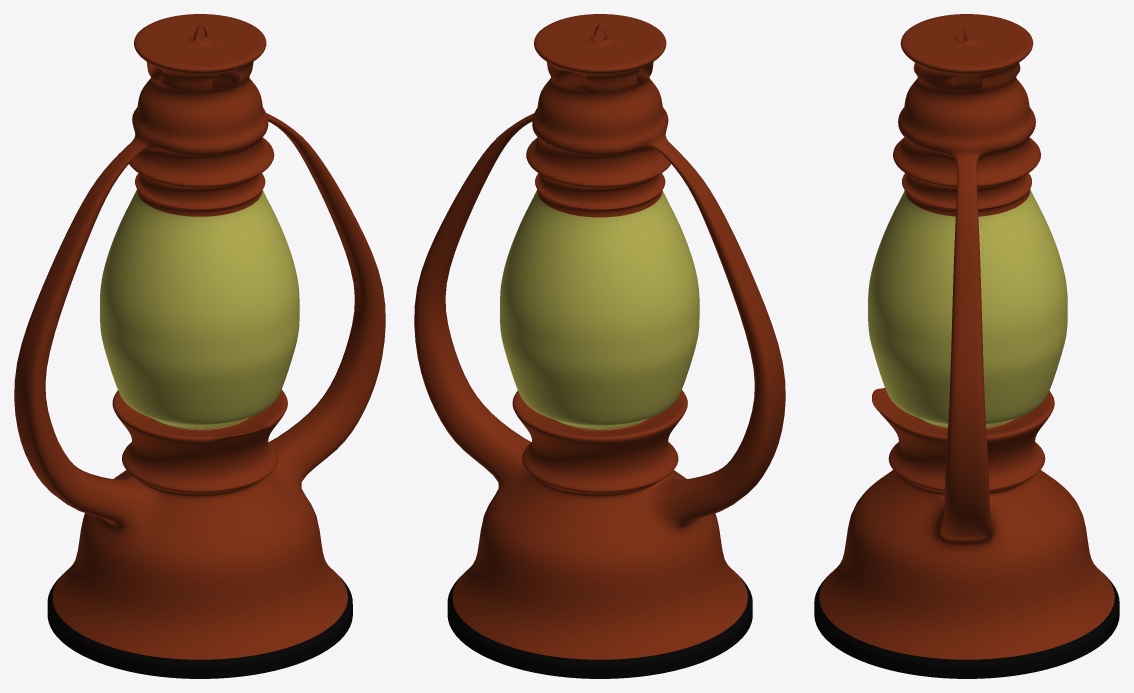
Rendered from Lantern Exp.fbx.
3 views of the same model, side by side, from view 1: azimuth 30°, elevation 25°; view 2: azimuth 150°, elevation 25°; view 3: azimuth 270°, elevation 25° (orthographic).
Visible parts, largest first — view 1: Cylinder001; view 2: Cylinder001; view 3: Cylinder001.
Part boxes in pixels (x1,y1,x2,y2): Cylinder001: (14,14,385,678); Cylinder001: (414,14,785,678); Cylinder001: (814,14,1119,678).
Bounding box in the file's own units: 267 × 421 × 197.
